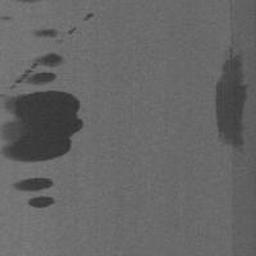Oil spot: (0, 51, 86, 164), (214, 42, 250, 156), (10, 177, 58, 210), (31, 27, 64, 45), (9, 0, 42, 5), (83, 12, 95, 23), (65, 26, 77, 36), (0, 15, 13, 20)
